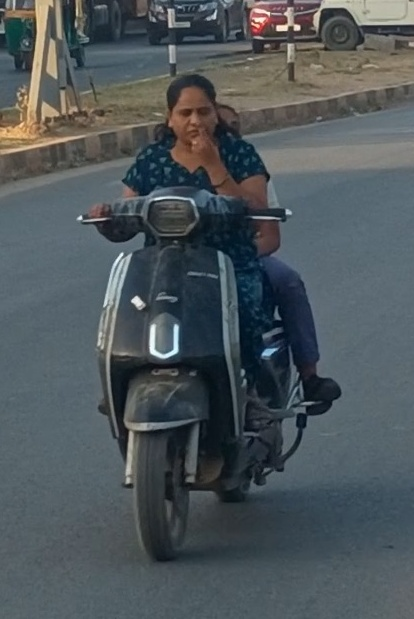BikeWithRider: (69, 63, 350, 564)
NoHelmet: (161, 73, 223, 153), (206, 101, 247, 145)
